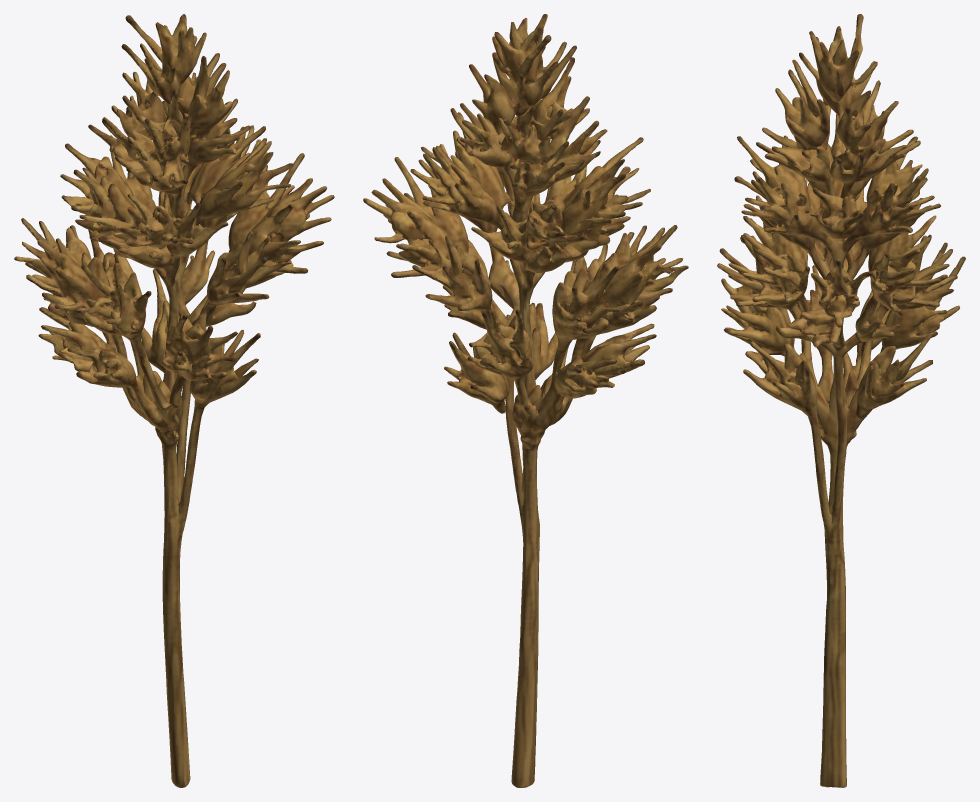
The model's file is cand-4916790.glb.
The picture shows the model from 3 angles, left to right: view 1: azimuth 30°, elevation 25°; view 2: azimuth 150°, elevation 25°; view 3: azimuth 270°, elevation 25°; orthographic projection.
Parts seen in each view (by area): view 1: world; view 2: world; view 3: world.
Boxes of the visible parts, bbox=[...] form: world: bbox=[14, 14, 334, 787]; world: bbox=[363, 14, 688, 787]; world: bbox=[717, 14, 965, 787].
Bounding box in the file's own units: 0.0928 × 0.2499 × 0.0746.
Materials: 1 (1 with a texture image).
